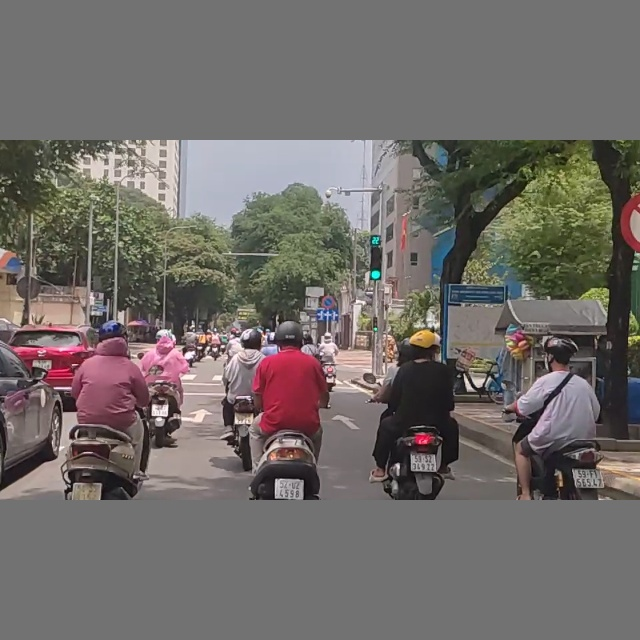P.131a: (319, 295, 335, 310)
